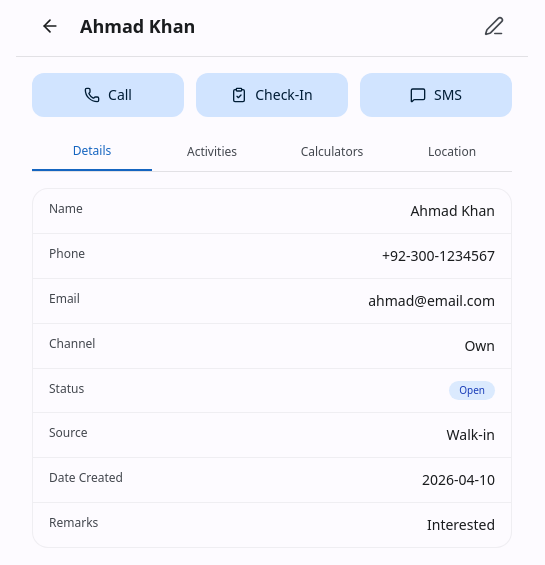
LeadDetailContent › shows calculator options in Calculators tab
The width and height of the screenshot is (545, 565).
Click the button "Calculators" at (332,152), box x1=272 y1=133 x2=392 y2=171
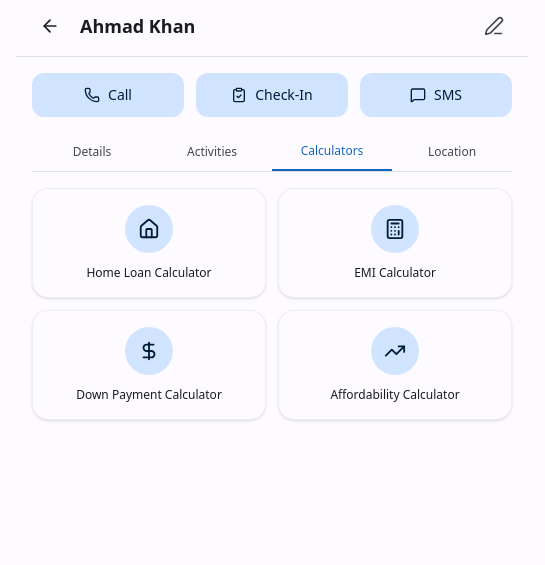
Check: the text "Home Loan Calculator" is shown, box x1=86 y1=265 x2=212 y2=281
Check: the text "EMI Calculator" is shown, box x1=354 y1=265 x2=436 y2=281
